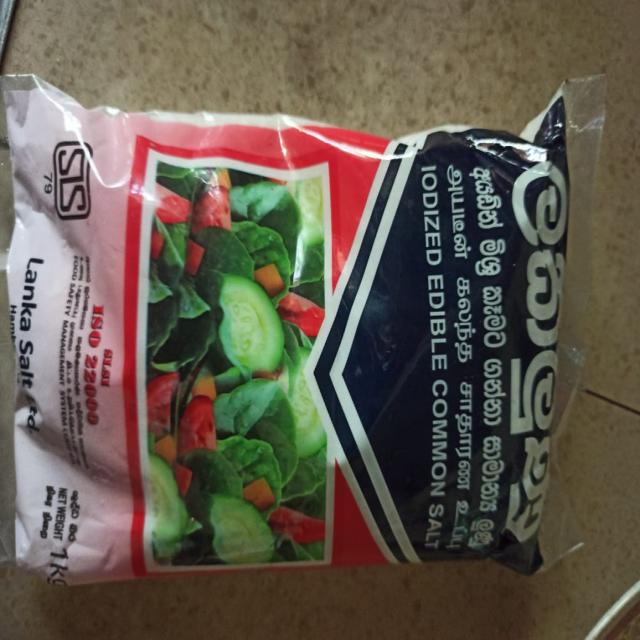Lak Lunu: (1, 74, 613, 584)
